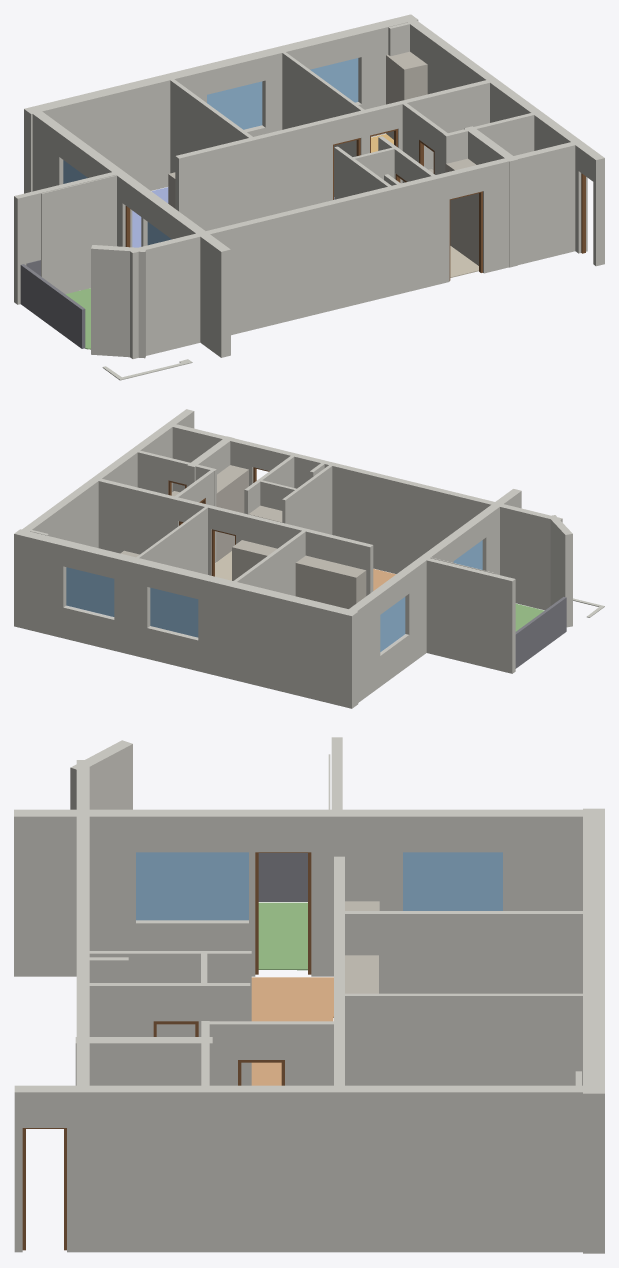
The picture shows the model from 3 angles, top to bottom: view 1: azimuth 30°, elevation 25°; view 2: azimuth 150°, elevation 25°; view 3: azimuth 270°, elevation 25°; orthographic projection. The views are drawn at different scales.
Parts seen in each view (by area): view 1: walls, railings, furniture_4_closet, furniture_0_closet, window_0, window_1, floor_8_Outdoor, floor_2_Entry, door_4, floor_0_Bed_Room; view 2: walls, furniture_1_closet, railings, window_0, window_1, furniture_4_closet, furniture_2_closet, window_3, window_10, floor_8_Outdoor; view 3: walls, window_10, window_3, floor_1_Living_Room, floor_8_Outdoor, railings, furniture_2_closet, door_2, door_11.
Part boxes in pixels (<box>): walls: <box>14,14,604,358</box>; railings: <box>20,260,85,348</box>; furniture_4_closet: <box>445,158,478,265</box>; furniture_0_closet: <box>386,51,427,139</box>; window_0: <box>207,81,262,129</box>; window_1: <box>310,58,358,102</box>; floor_8_Outdoor: <box>65,288,90,349</box>; floor_2_Entry: <box>450,246,478,277</box>; door_4: <box>449,191,482,280</box>; floor_0_Bed_Room: <box>132,187,168,247</box>; walls: <box>14,409,572,708</box>; furniture_1_closet: <box>295,555,366,608</box>; railings: <box>515,597,566,668</box>; window_0: <box>150,587,198,637</box>; window_1: <box>66,567,114,616</box>; furniture_4_closet: <box>216,465,248,561</box>; furniture_2_closet: <box>232,540,276,580</box>; window_3: <box>380,597,405,651</box>; window_10: <box>453,540,482,569</box>; floor_8_Outdoor: <box>515,603,543,631</box>; walls: <box>14,737,604,1253</box>; window_10: <box>136,852,248,920</box>; window_3: <box>403,852,502,910</box>; floor_1_Living_Room: <box>251,977,333,1085</box>; floor_8_Outdoor: <box>258,902,307,970</box>; railings: <box>258,853,307,901</box>; furniture_2_closet: <box>345,955,378,993</box>; door_2: <box>255,852,311,974</box>; door_11: <box>22,1128,66,1250</box>.
Size of the model in its own units: 12.89 by 2.72 by 9.04.
